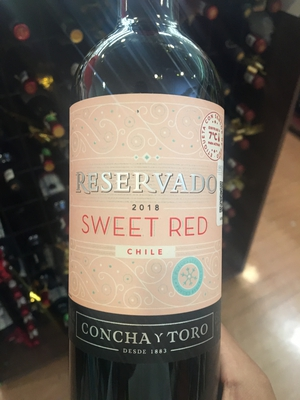reservado sweet red: (65, 23, 235, 374)
